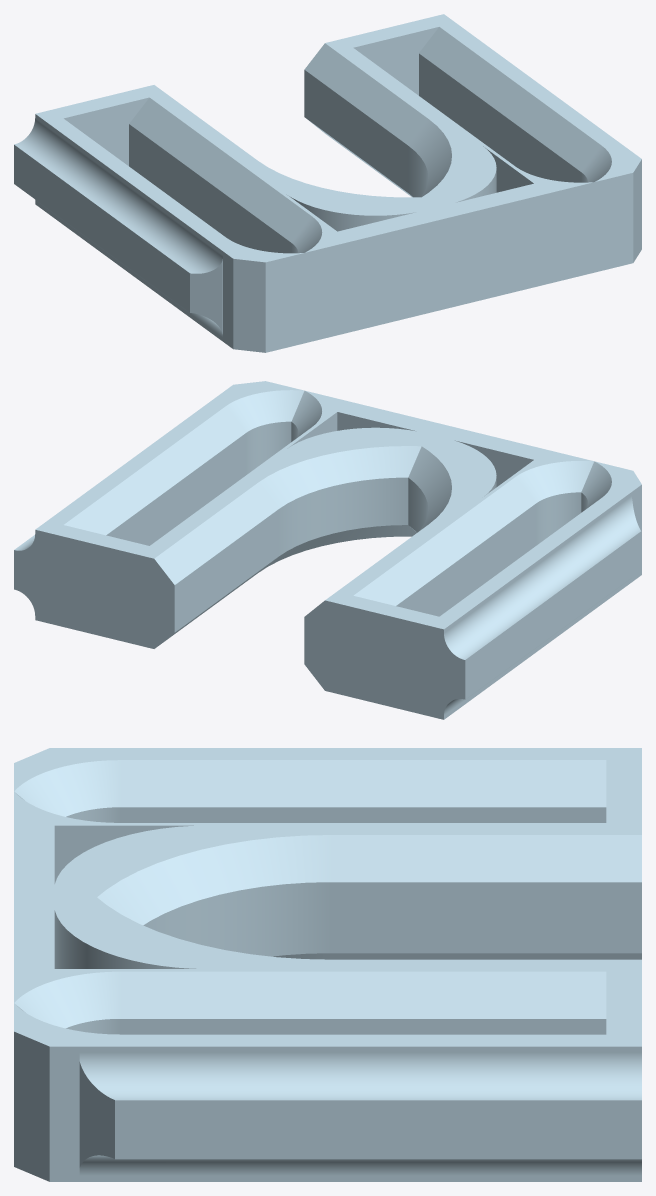
File: observatory.glb
3 views of the same model, one above another, from view 1: azimuth 30°, elevation 25°; view 2: azimuth 150°, elevation 25°; view 3: azimuth 270°, elevation 25° (orthographic). The views are drawn at different scales.
Parts seen in each view (by area): view 1: Part 1; view 2: Part 1; view 3: Part 1.
Boxes of the visible parts, x1,y1,x2,y2 form: Part 1: [14, 14, 641, 352]; Part 1: [14, 381, 641, 719]; Part 1: [14, 748, 641, 1181].
Size of the model in its own units: 0.1115 by 0.0214 by 0.0898.
